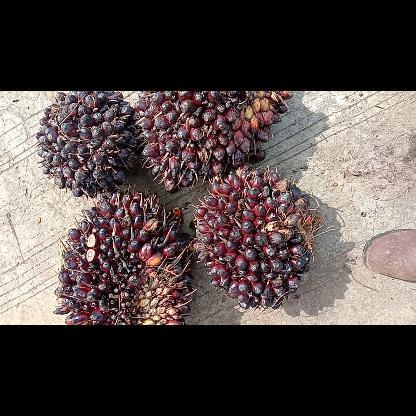TBS mentah: (186, 164, 322, 314), (52, 191, 196, 324), (132, 90, 296, 194), (34, 90, 138, 202)
